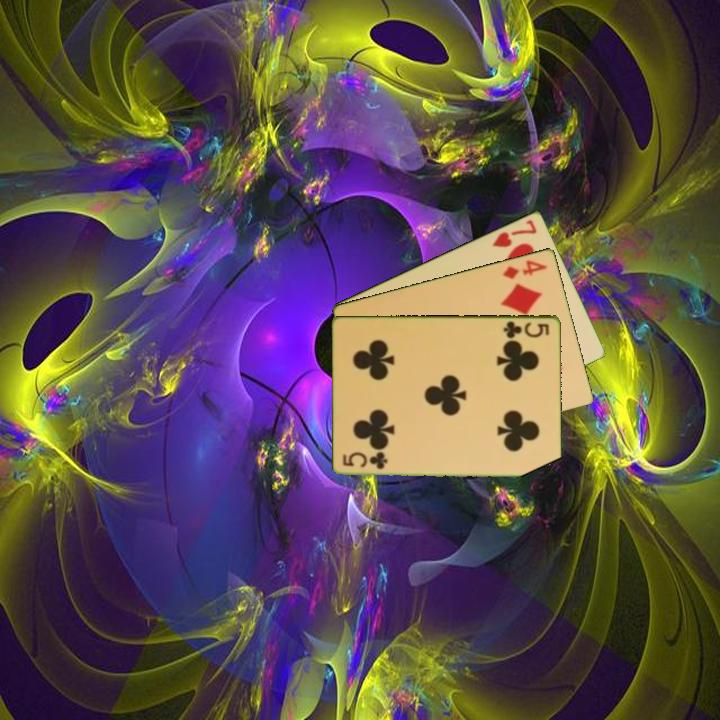4d: (499, 256, 550, 282)
5c: (501, 317, 552, 341), (340, 451, 391, 472)
7h: (489, 215, 540, 250)
